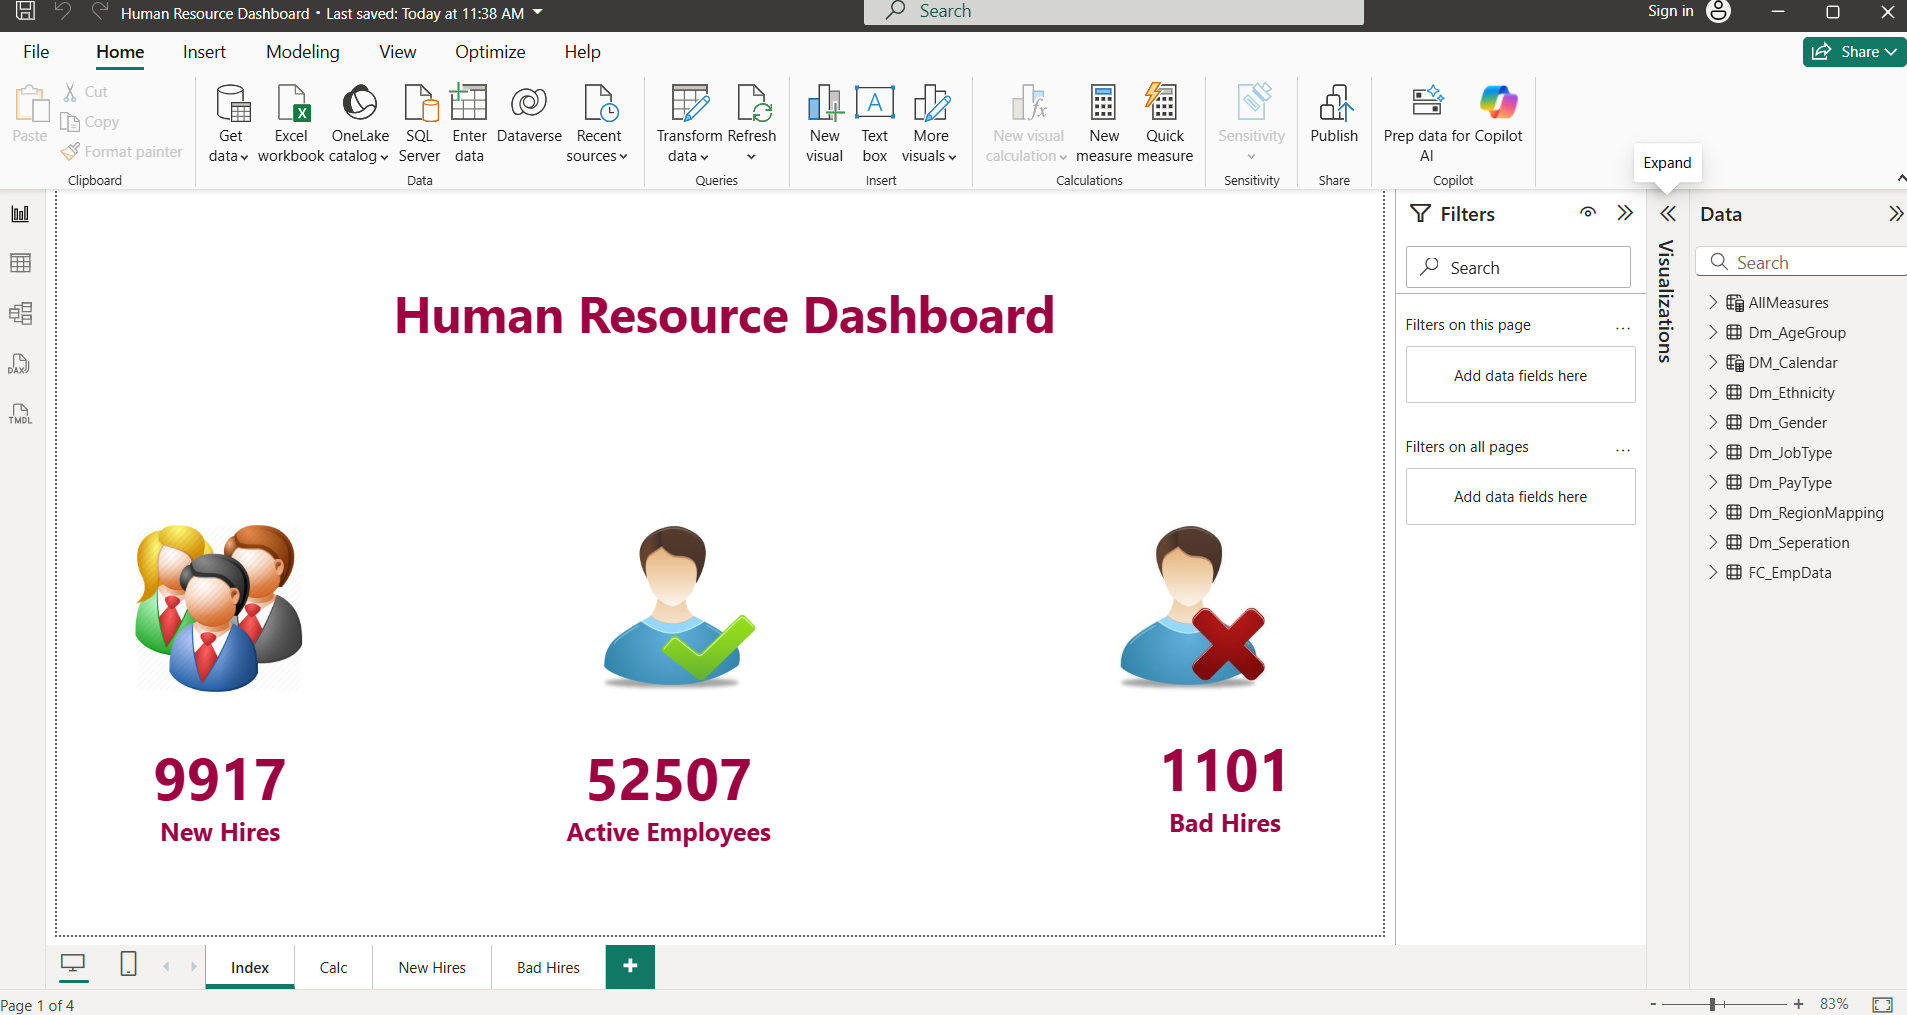

What the dashboard file says about the page in this screenshot:
{"tool":"powerbi","page":{"name":"Index","canvas":[1280,720],"ordinal":0},"visuals":[{"type":"textbox","box":[320,82.4,670.2,93.4],"z":0},{"type":"image","box":[1002.6,320,179.9,170.3],"z":1},{"type":"image","box":[462.8,320,262.3,170.3],"z":2},{"type":"image","box":[30.2,320,251.3,170.3],"z":3},{"type":"card","fields":{"Values":["AllMeasures.NewHireCY"]},"box":[33,506.8,250,149.7],"z":4},{"type":"card","fields":{"Values":["AllMeasures.ActiveEmp"]},"box":[465.6,506.8,250,149.7],"z":5},{"type":"card","fields":{"Values":["AllMeasures.Bad Hires"]},"box":[1002.6,490.3,250,166.2],"z":6}]}

Visuals, with their boxes on the page's 1280x720 design canvas (x1, y1, x2, y2). These are canvas units, not pixel positions in the 1907x1015 screenshot, which may show the page scaled, cropped or inside an application window:
textbox: <box>320,82,990,176</box>
image: <box>1003,320,1182,490</box>
image: <box>463,320,725,490</box>
image: <box>30,320,282,490</box>
card - AllMeasures.NewHireCY: <box>33,507,283,656</box>
card - AllMeasures.ActiveEmp: <box>466,507,716,656</box>
card - AllMeasures.Bad Hires: <box>1003,490,1253,656</box>
